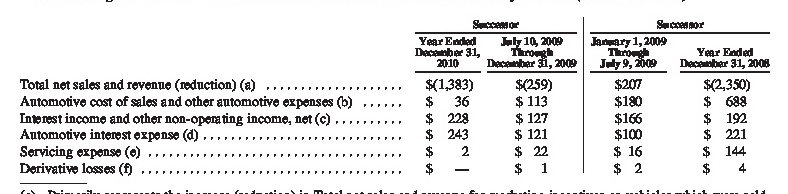table: (0, 0, 788, 194)
